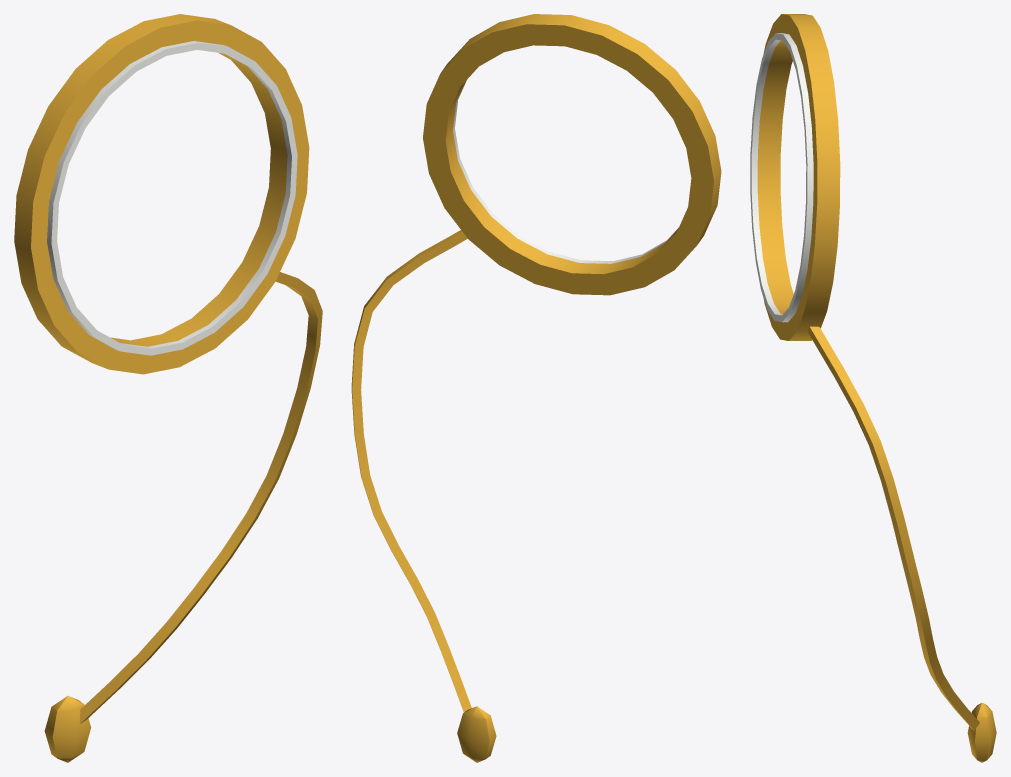
The model's file is Monoculo.fbx.
3 renders of one model, left to right at view 1: azimuth 30°, elevation 25°; view 2: azimuth 150°, elevation 25°; view 3: azimuth 270°, elevation 25°, orthographic. The views are drawn at different scales.
Visible parts, largest first — view 1: Monoculo; view 2: Monoculo; view 3: Monoculo.
Part boxes in pixels (box(x1,y1,x2,y2)): Monoculo: box(14, 14, 322, 762); Monoculo: box(351, 14, 721, 762); Monoculo: box(750, 14, 996, 762).
Bounding box in the file's own units: 0.74 × 1.57 × 0.48.
Materials: 1 (1 with a texture image).
